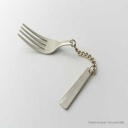Fork: (10, 18, 117, 109)
